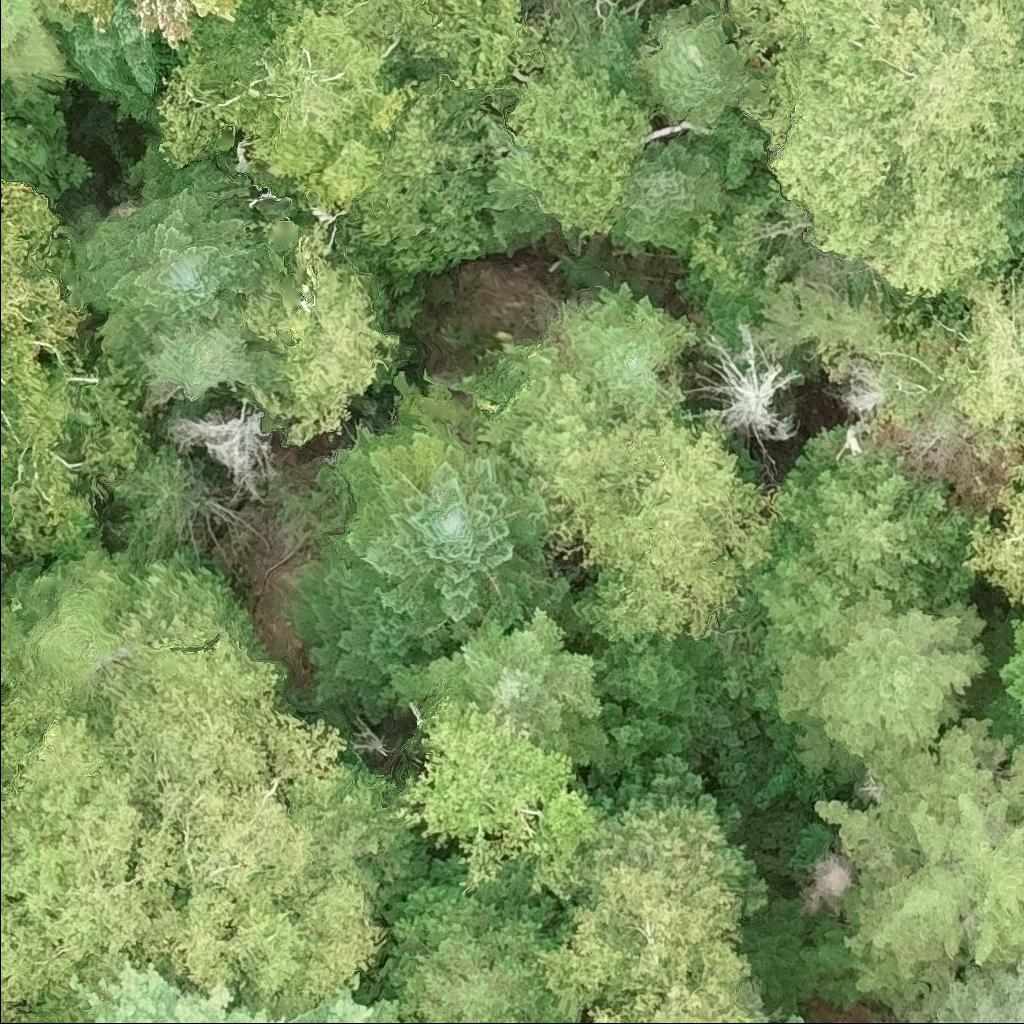crown: (0, 629, 390, 1023), (728, 0, 1023, 299), (791, 715, 1023, 1021), (318, 394, 579, 644), (0, 177, 149, 565), (740, 595, 993, 781), (389, 698, 608, 901), (756, 455, 977, 647), (585, 436, 779, 644), (387, 604, 612, 774), (359, 851, 572, 1023), (538, 862, 754, 1023), (250, 214, 392, 449), (493, 45, 653, 253), (281, 554, 462, 728), (74, 189, 282, 338), (331, 97, 495, 268), (583, 792, 770, 916), (585, 631, 762, 750), (557, 284, 696, 420), (549, 419, 694, 545), (698, 321, 802, 471), (66, 954, 290, 1023), (943, 273, 1023, 461), (638, 14, 758, 132), (383, 0, 546, 86), (117, 561, 259, 654), (614, 143, 720, 248), (582, 697, 702, 786), (67, 0, 250, 54), (144, 320, 263, 400), (172, 408, 272, 502), (896, 953, 1023, 1023), (967, 606, 1023, 737), (583, 984, 768, 1023), (975, 460, 1023, 607), (0, 0, 67, 86), (571, 567, 637, 642), (718, 113, 767, 207), (309, 986, 406, 1023), (574, 0, 688, 22), (0, 415, 13, 548)
